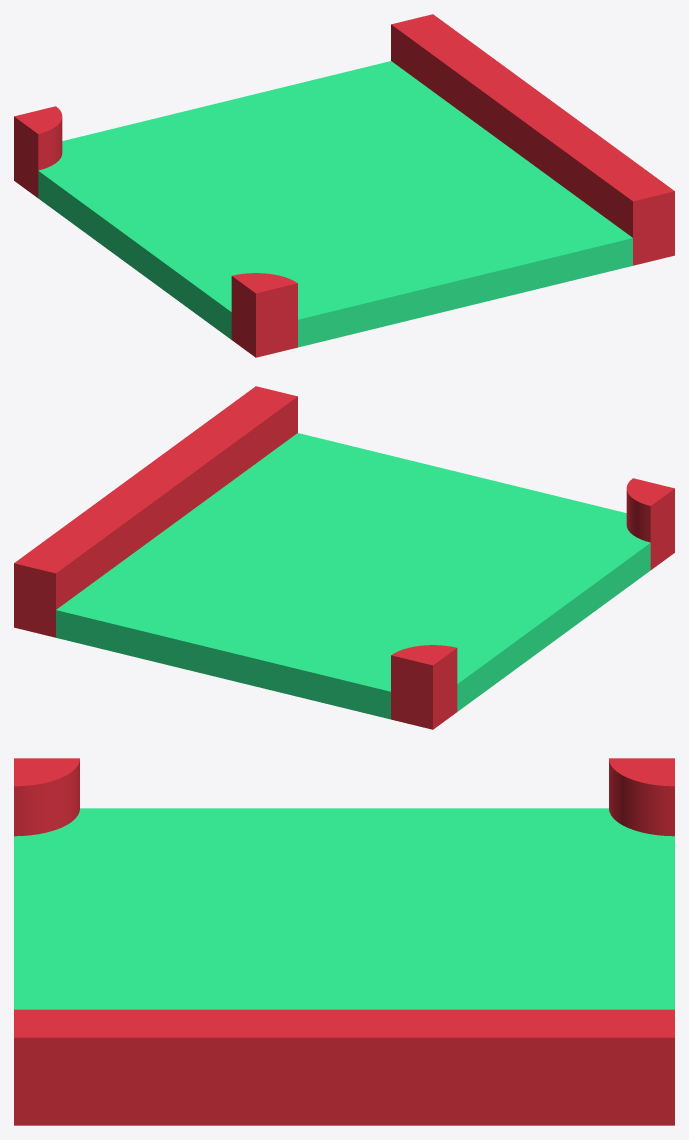
File: splitT.fbx
3 renders of one model, top to bottom at view 1: azimuth 30°, elevation 25°; view 2: azimuth 150°, elevation 25°; view 3: azimuth 270°, elevation 25°, orthographic. The views are drawn at different scales.
Visible parts, largest first — view 1: splitT; view 2: splitT; view 3: splitT.
Boxes of the visible parts, bbox=[...] form: splitT: bbox=[14, 14, 674, 357]; splitT: bbox=[14, 386, 674, 729]; splitT: bbox=[14, 758, 674, 1125].
Size of the model in its own units: 10 by 1.47 by 10.
